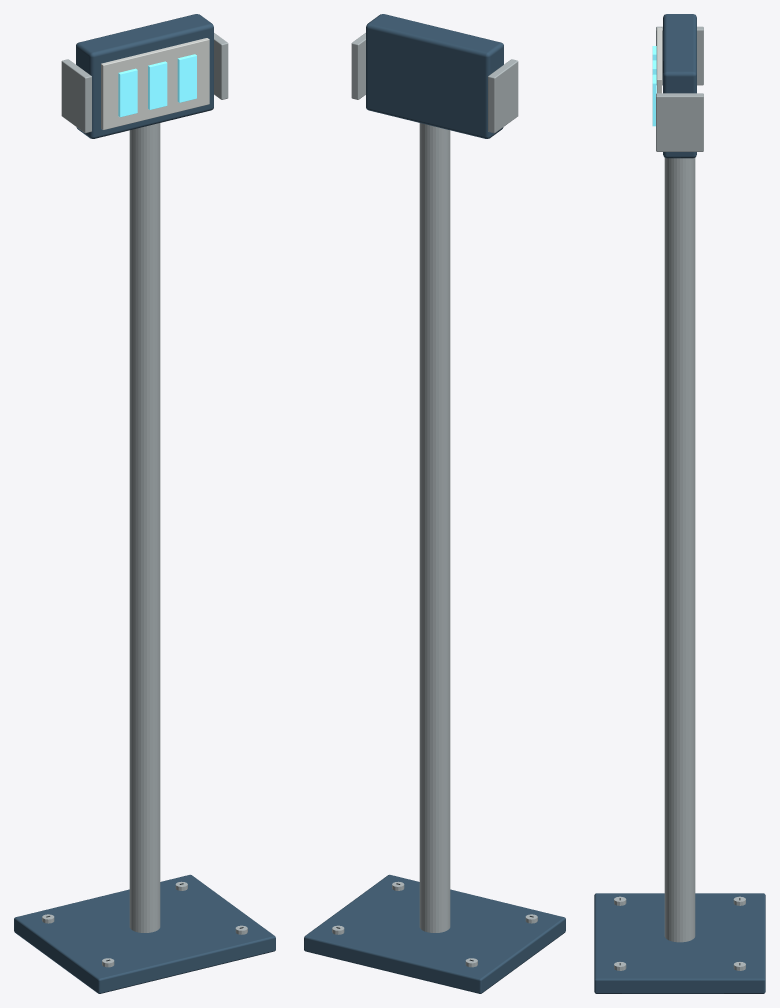
File: container-inspection-and-customs-yard-container-inspec-7360fe6a__29295.glb
3 renders of one model, left to right at view 1: azimuth 30°, elevation 25°; view 2: azimuth 150°, elevation 25°; view 3: azimuth 270°, elevation 25°, orthographic.
Parts seen in each view (by area): view 1: container-inspection-and-customs-yard-inspection-floodlight_ (×4); view 2: container-inspection-and-customs-yard-inspection-floodlight_ (×2); view 3: container-inspection-and-customs-yard-inspection-floodlight_ (×2).
Boxes of the visible parts, <box> form: container-inspection-and-customs-yard-inspection-floodlight_ (×4): <box>14,14,275,993</box>; container-inspection-and-customs-yard-inspection-floodlight_ (×2): <box>304,14,565,993</box>; container-inspection-and-customs-yard-inspection-floodlight_ (×2): <box>594,14,765,993</box>.
Bounding box in the file's own units: 0.5998 × 2.93 × 0.5.
